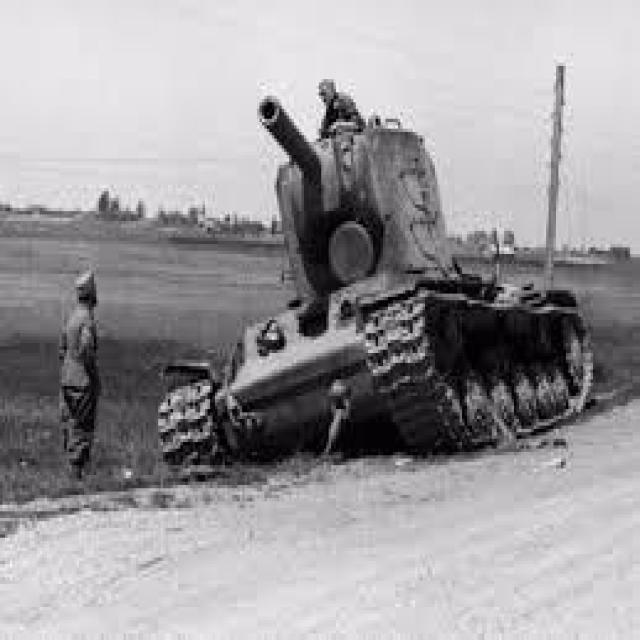MIL_MBT: (142, 82, 604, 462)
